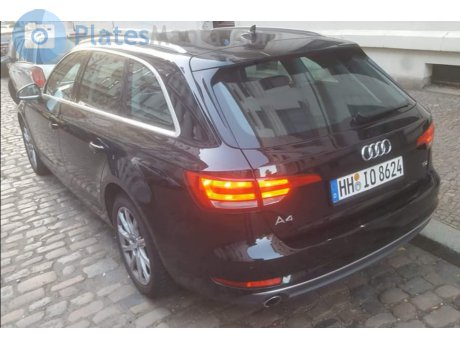License Plates: (334, 169, 413, 183)
